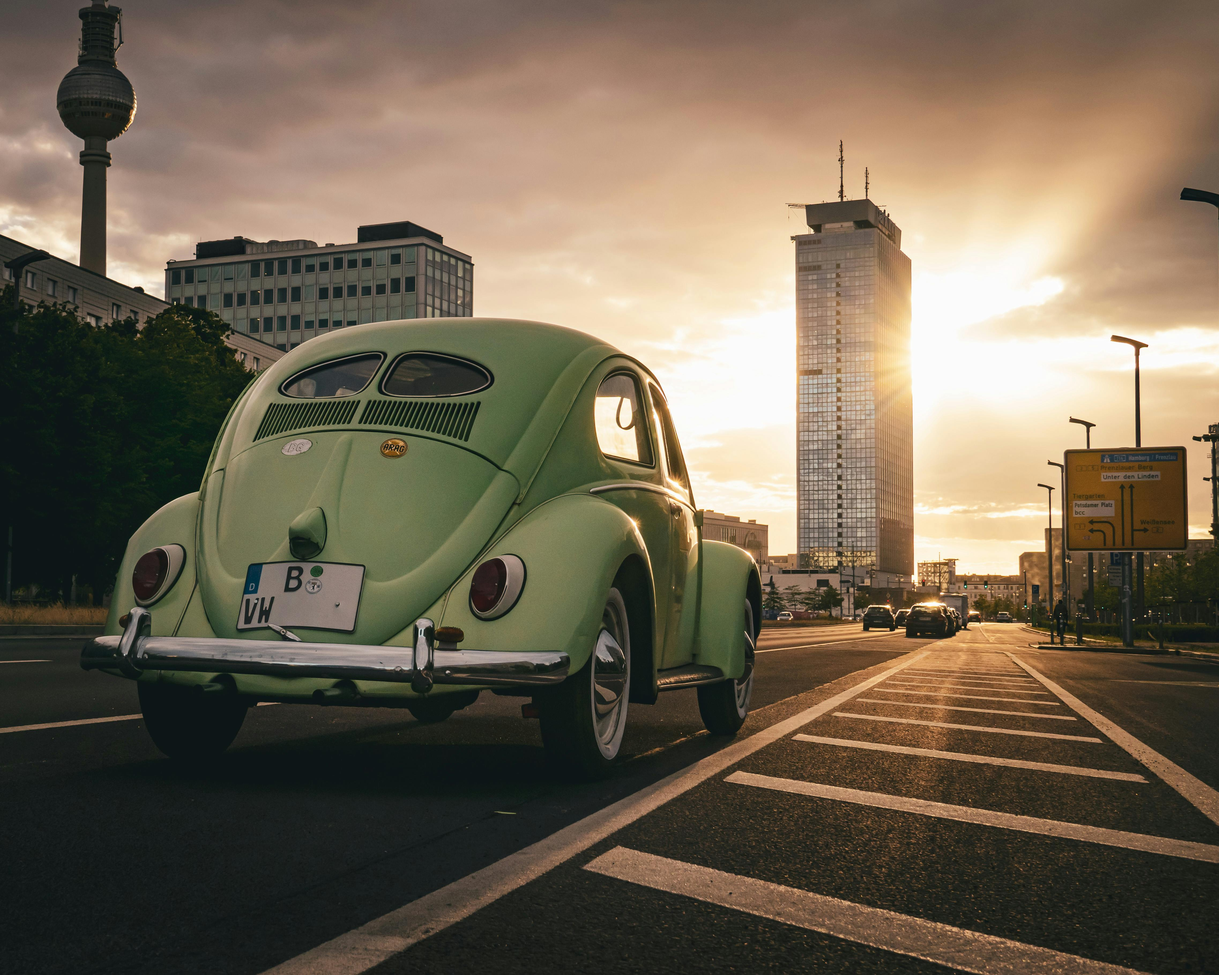other: (80, 311, 760, 765), (901, 601, 955, 639)
